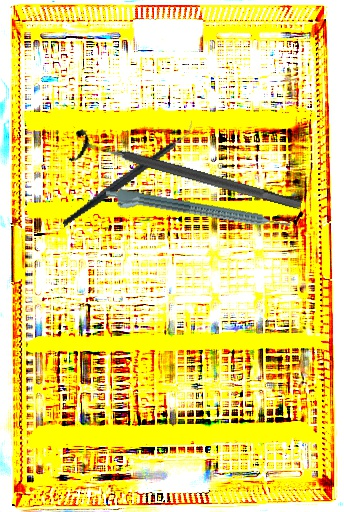Chopper: (45, 119, 211, 228)
Fixation Ring: (68, 126, 306, 223)
Handpiece: (103, 185, 292, 240)
